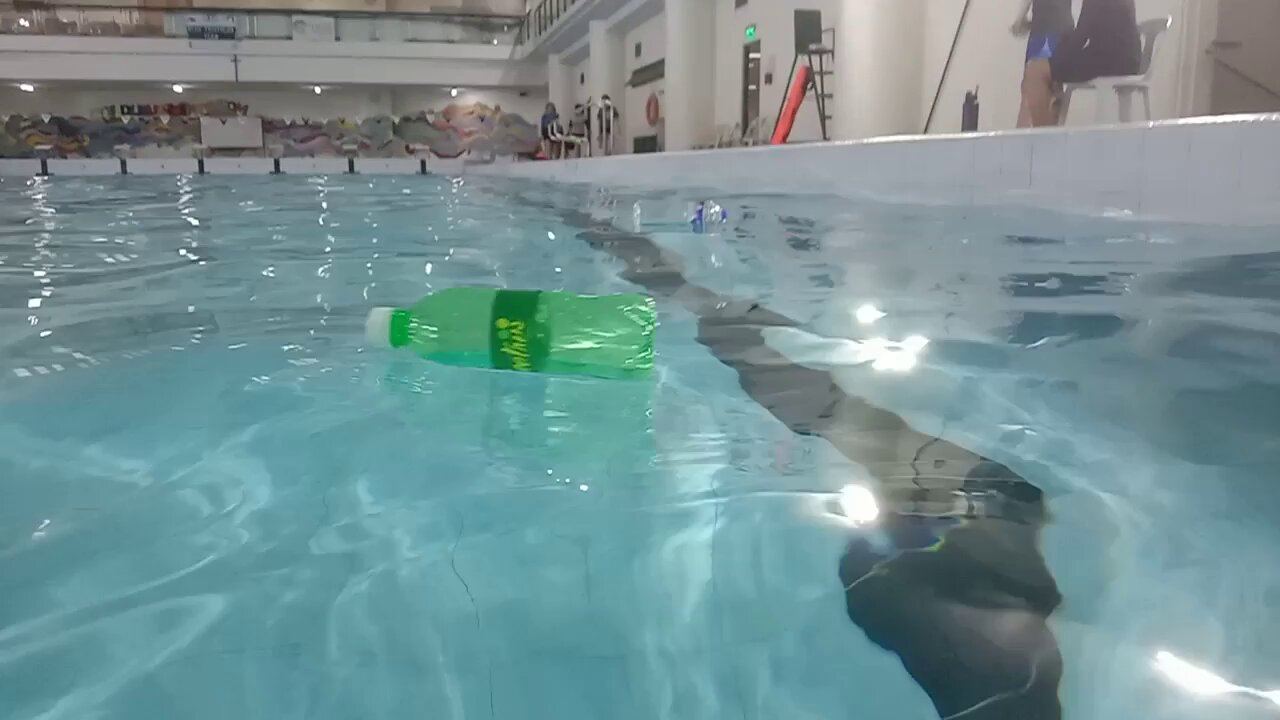plastic_bottle: (363, 282, 659, 378), (633, 194, 730, 235)
